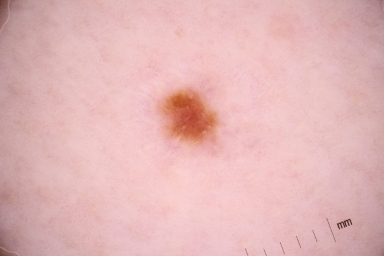melanoma: (161, 91, 219, 139)
